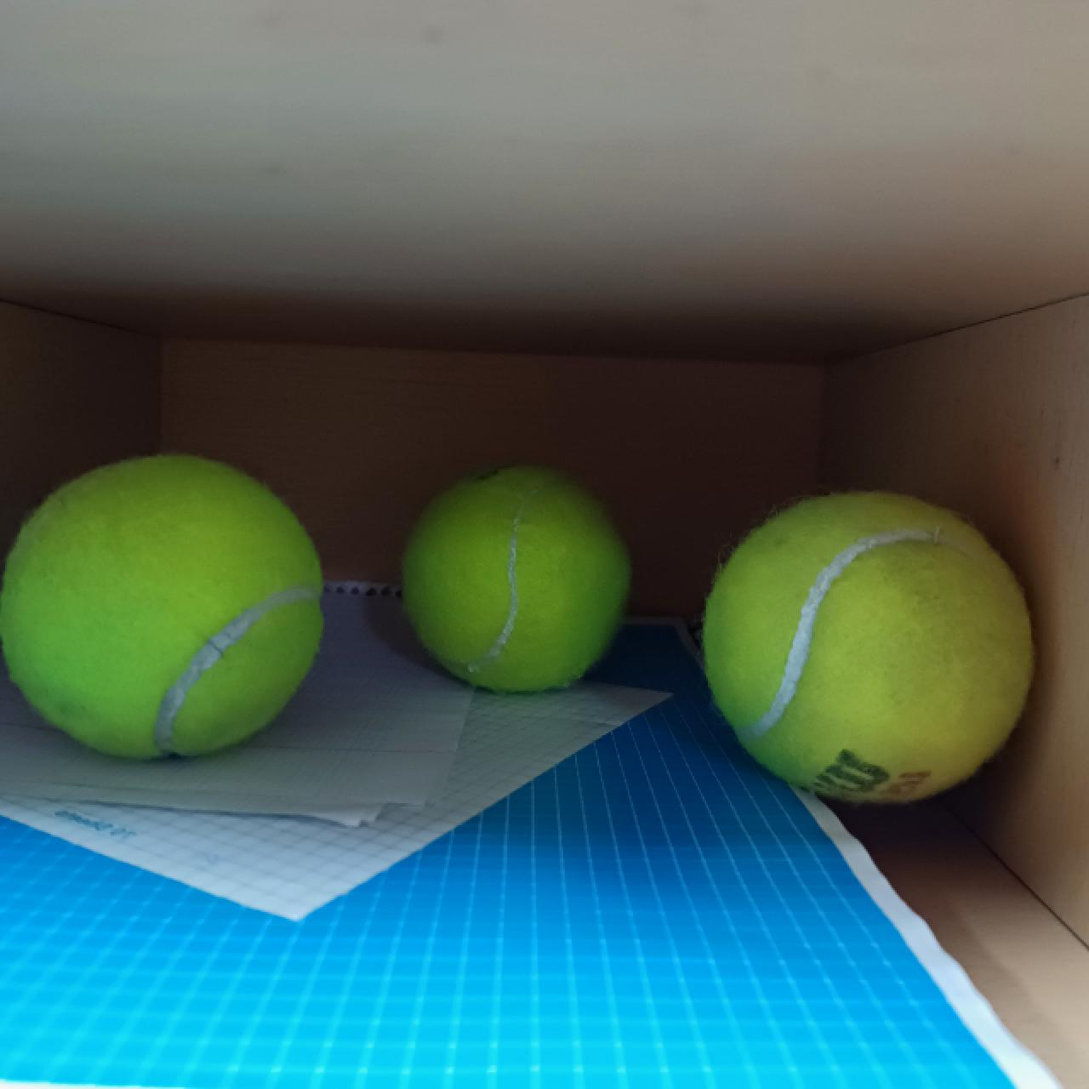tennis-ball: (699, 493, 1036, 807), (0, 450, 326, 763), (403, 461, 631, 696)
